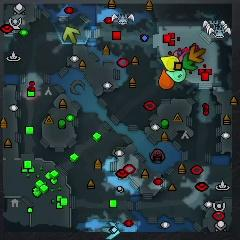p2: (165, 69, 186, 83)
p4: (160, 55, 179, 72)
p5: (159, 70, 175, 89)
x1: (173, 50, 187, 62)
x2: (62, 26, 80, 43)
x3: (101, 222, 120, 239)
x4: (182, 54, 198, 71)
x5: (189, 44, 206, 63)
